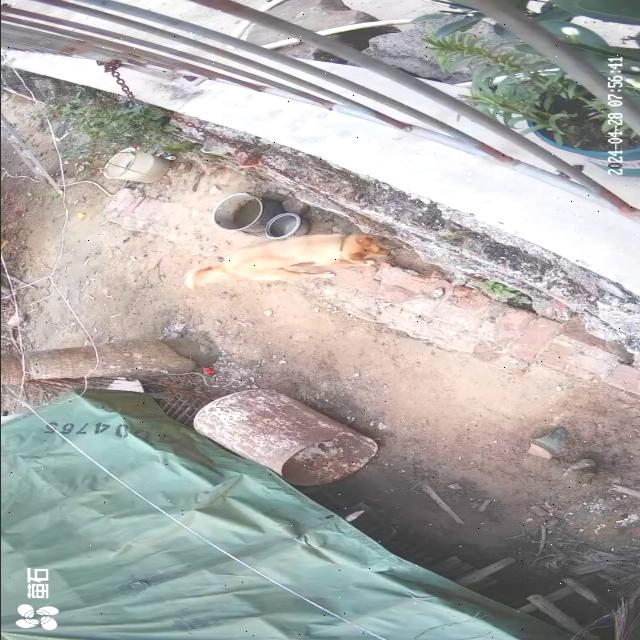dog: (184, 234, 390, 291)
